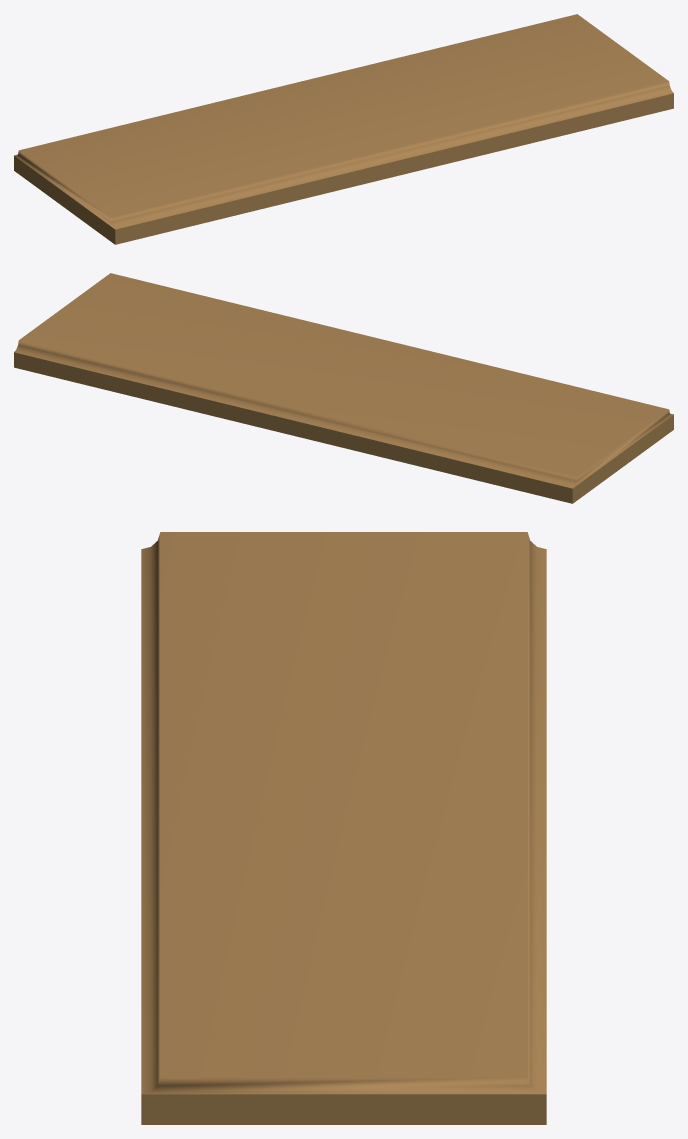
Rendered from gf_board_01.glb.
The picture shows the model from 3 angles, top to bottom: view 1: azimuth 30°, elevation 25°; view 2: azimuth 150°, elevation 25°; view 3: azimuth 270°, elevation 25°; orthographic projection. The views are drawn at different scales.
Parts seen in each view (by area): view 1: gf_board_01; view 2: gf_board_01; view 3: gf_board_01.
Boxes of the visible parts, left/top/right/bottom form: gf_board_01: left=14, top=14, right=673, bottom=244; gf_board_01: left=14, top=273, right=673, bottom=503; gf_board_01: left=141, top=532, right=546, bottom=1124.
Size of the model in its own units: 1.35 by 0.0605 by 0.424.
